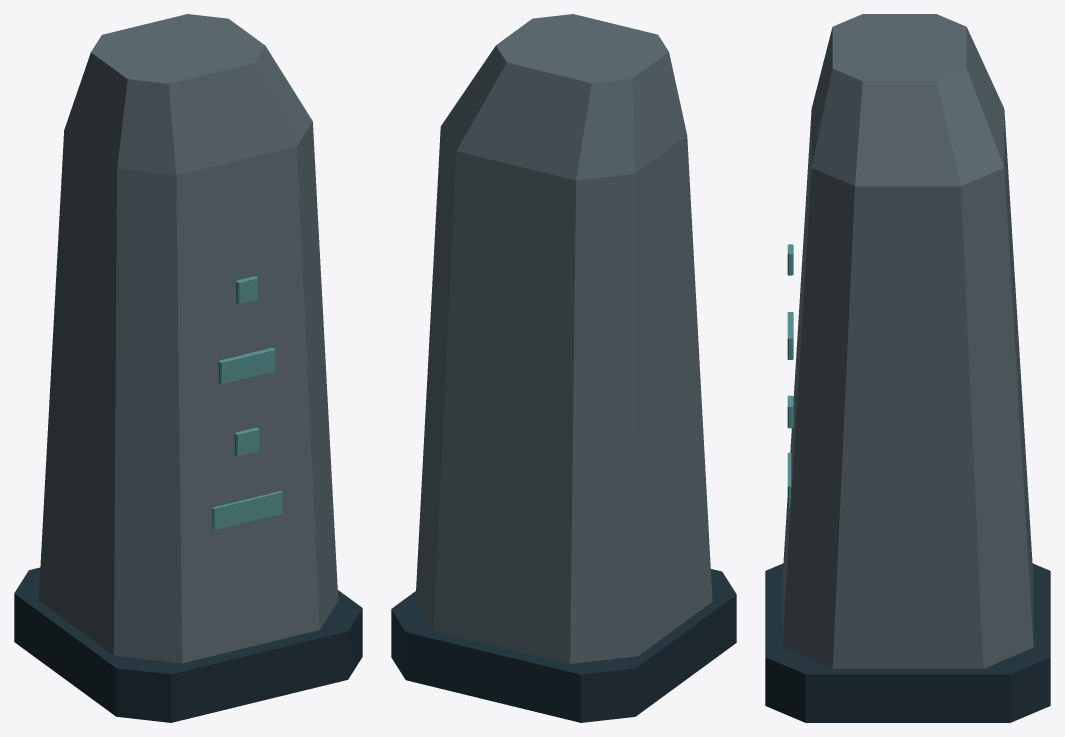
The model's file is obelisk.glb.
3 renders of one model, left to right at view 1: azimuth 30°, elevation 25°; view 2: azimuth 150°, elevation 25°; view 3: azimuth 270°, elevation 25°, orthographic.
Visible parts, largest first — view 1: obelisk; view 2: obelisk; view 3: obelisk.
Boxes of the visible parts, x1,y1,x2,y2 form: obelisk: [14, 14, 362, 722]; obelisk: [391, 14, 736, 722]; obelisk: [765, 14, 1050, 722].
Size of the model in its own units: 1.7 by 4 by 1.7.
